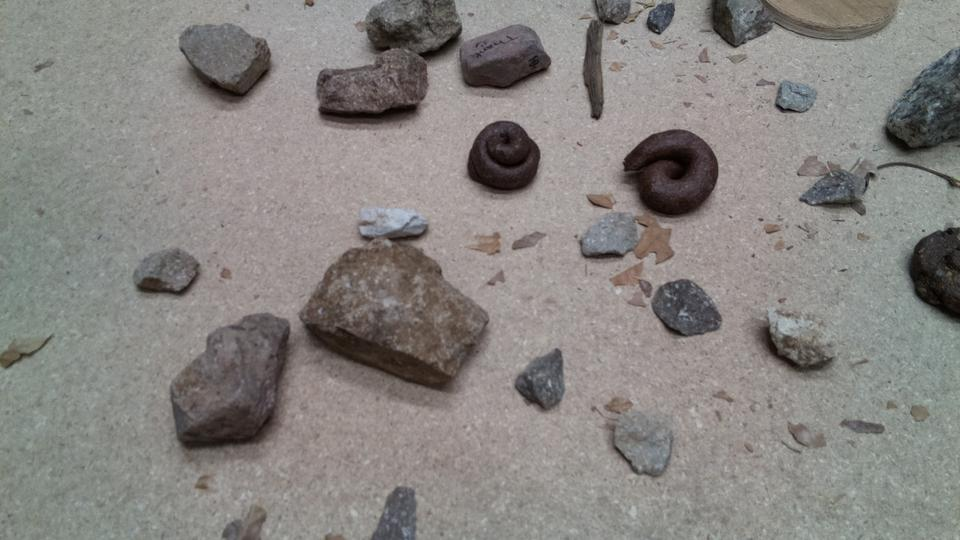poop: (619, 126, 722, 217), (464, 118, 543, 193), (906, 224, 960, 323)
